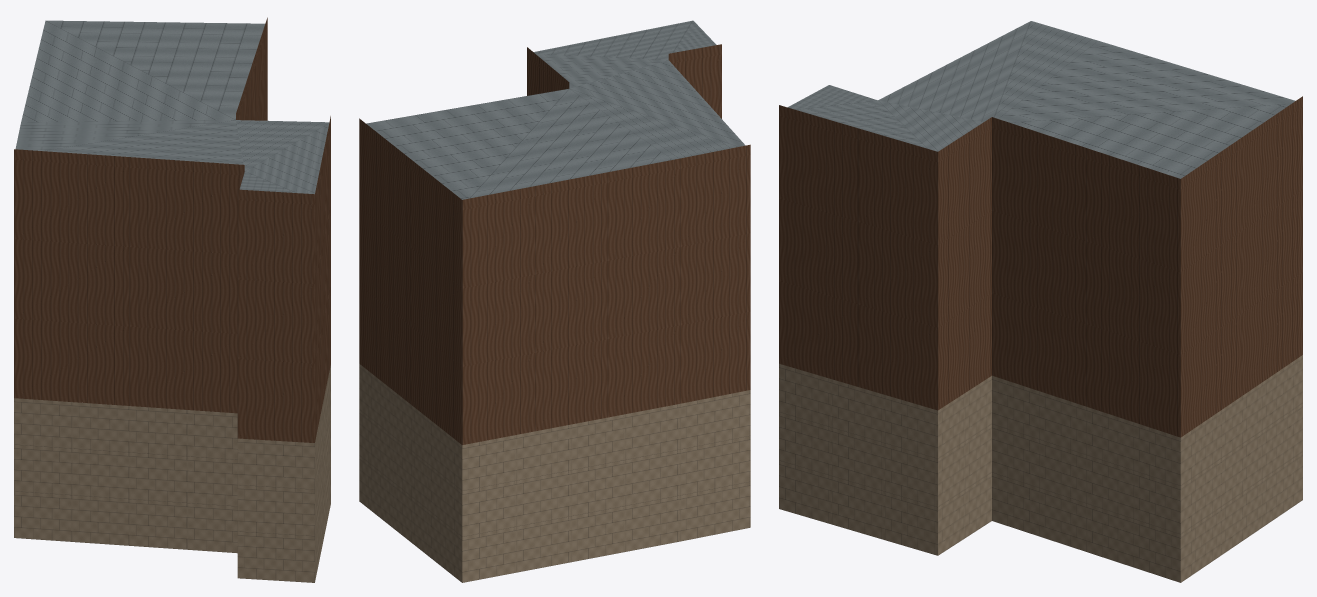
The model's file is bld_c42_31_273.gltf.
The picture shows the model from 3 angles, left to right: view 1: azimuth 30°, elevation 25°; view 2: azimuth 150°, elevation 25°; view 3: azimuth 270°, elevation 25°; orthographic projection. The views are drawn at different scales.
Visible parts, largest first — view 1: bld_c42_31_273; view 2: bld_c42_31_273; view 3: bld_c42_31_273.
Part boxes in pixels (x1=…): bld_c42_31_273: x1=14, y1=17, x2=330, y2=582; bld_c42_31_273: x1=359, y1=20, x2=750, y2=582; bld_c42_31_273: x1=779, y1=21, x2=1302, y2=582.
Size of the model in its own units: 12.42 by 14.18 by 16.66.
Materials: 4 (4 with a texture image).
